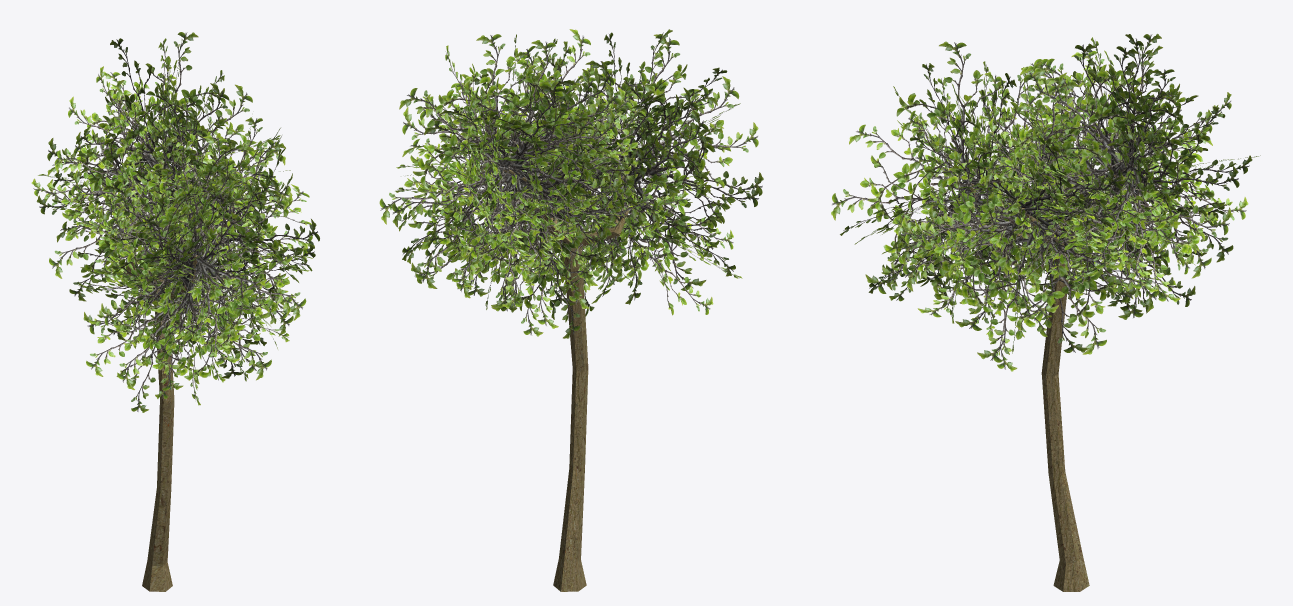
File: Tree2.fbx
3 renders of one model, left to right at view 1: azimuth 30°, elevation 25°; view 2: azimuth 150°, elevation 25°; view 3: azimuth 270°, elevation 25°, orthographic. The views are drawn at different scales.
Visible parts, largest first — view 1: Tree2, Tree2|Tree branchvebg-preview|Dupli|196, Tree2|Tree branchvebg-preview|Dupli|161, Tree2|Tree branchvebg-preview|Dupli|144, Tree2|Tree branchvebg-preview|Dupli|197, Tree2|Tree branchvebg-preview|Dupli|198, Tree2|Tree branchvebg-preview|Dupli|149, Tree2|Tree branchvebg-preview|Dupli|142, Tree2|Tree branchvebg-preview|Dupli|153, Tree2|Tree branchvebg-preview|Dupli|199, Tree2|Tree branchvebg-preview|Dupli|20, Tree2|Tree branchvebg-preview|Dupli|156 (+63 smaller); view 2: Tree2, Tree2|Tree branchvebg-preview|Dupli|124, Tree2|Tree branchvebg-preview|Dupli|55, Tree2|Tree branchvebg-preview|Dupli|46, Tree2|Tree branchvebg-preview|Dupli|63, Tree2|Tree branchvebg-preview|Dupli|132, Tree2|Tree branchvebg-preview|Dupli|136, Tree2|Tree branchvebg-preview|Dupli|171, Tree2|Tree branchvebg-preview|Dupli|52, Tree2|Tree branchvebg-preview|Dupli|71, Tree2|Tree branchvebg-preview|Dupli|156, Tree2|Tree branchvebg-preview|Dupli|139 (+63 smaller); view 3: Tree2, Tree2|Tree branchvebg-preview|Dupli|158, Tree2|Tree branchvebg-preview|Dupli|15, Tree2|Tree branchvebg-preview|Dupli|7, Tree2|Tree branchvebg-preview|Dupli|19, Tree2|Tree branchvebg-preview|Dupli|35, Tree2|Tree branchvebg-preview|Dupli|84, Tree2|Tree branchvebg-preview|Dupli|173, Tree2|Tree branchvebg-preview|Dupli|193, Tree2|Tree branchvebg-preview|Dupli|, Tree2|Tree branchvebg-preview|Dupli|18, Tree2|Tree branchvebg-preview|Dupli|36 (+52 smaller).
Part boxes in pixels (x1=…): Tree2: x1=125, y1=162, x2=235, y2=591; Tree2|Tree branchvebg-preview|Dupli|196: x1=196, y1=256, x2=306, y2=337; Tree2|Tree branchvebg-preview|Dupli|161: x1=195, y1=182, x2=285, y2=268; Tree2|Tree branchvebg-preview|Dupli|144: x1=174, y1=254, x2=270, y2=364; Tree2|Tree branchvebg-preview|Dupli|197: x1=100, y1=237, x2=196, y2=341; Tree2|Tree branchvebg-preview|Dupli|198: x1=113, y1=282, x2=198, y2=390; Tree2|Tree branchvebg-preview|Dupli|149: x1=86, y1=292, x2=184, y2=376; Tree2|Tree branchvebg-preview|Dupli|142: x1=141, y1=282, x2=230, y2=390; Tree2|Tree branchvebg-preview|Dupli|153: x1=178, y1=292, x2=271, y2=384; Tree2|Tree branchvebg-preview|Dupli|199: x1=111, y1=186, x2=203, y2=263; Tree2|Tree branchvebg-preview|Dupli|20: x1=148, y1=137, x2=245, y2=219; Tree2|Tree branchvebg-preview|Dupli|156: x1=106, y1=200, x2=189, y2=288; Tree2: x1=499, y1=166, x2=629, y2=591; Tree2|Tree branchvebg-preview|Dupli|124: x1=508, y1=114, x2=621, y2=228; Tree2|Tree branchvebg-preview|Dupli|55: x1=399, y1=81, x2=501, y2=185; Tree2|Tree branchvebg-preview|Dupli|46: x1=548, y1=165, x2=660, y2=277; Tree2|Tree branchvebg-preview|Dupli|63: x1=474, y1=40, x2=580, y2=172; Tree2|Tree branchvebg-preview|Dupli|132: x1=435, y1=34, x2=536, y2=165; Tree2|Tree branchvebg-preview|Dupli|136: x1=502, y1=81, x2=617, y2=182; Tree2|Tree branchvebg-preview|Dupli|171: x1=627, y1=179, x2=721, y2=290; Tree2|Tree branchvebg-preview|Dupli|52: x1=504, y1=74, x2=621, y2=169; Tree2|Tree branchvebg-preview|Dupli|71: x1=513, y1=208, x2=593, y2=338; Tree2|Tree branchvebg-preview|Dupli|156: x1=623, y1=101, x2=709, y2=188; Tree2|Tree branchvebg-preview|Dupli|139: x1=631, y1=124, x2=763, y2=223; Tree2: x1=970, y1=169, x2=1129, y2=591; Tree2|Tree branchvebg-preview|Dupli|158: x1=896, y1=41, x2=1006, y2=181; Tree2|Tree branchvebg-preview|Dupli|15: x1=953, y1=229, x2=1047, y2=362; Tree2|Tree branchvebg-preview|Dupli|7: x1=1007, y1=232, x2=1117, y2=354; Tree2|Tree branchvebg-preview|Dupli|19: x1=1039, y1=229, x2=1159, y2=325; Tree2|Tree branchvebg-preview|Dupli|35: x1=901, y1=162, x2=1042, y2=277; Tree2|Tree branchvebg-preview|Dupli|84: x1=1029, y1=58, x2=1130, y2=169; Tree2|Tree branchvebg-preview|Dupli|173: x1=849, y1=115, x2=977, y2=210; Tree2|Tree branchvebg-preview|Dupli|193: x1=831, y1=155, x2=968, y2=264; Tree2|Tree branchvebg-preview|Dupli|: x1=1010, y1=77, x2=1107, y2=207; Tree2|Tree branchvebg-preview|Dupli|18: x1=925, y1=165, x2=1044, y2=271; Tree2|Tree branchvebg-preview|Dupli|36: x1=933, y1=212, x2=1030, y2=330.
Size of the model in its own units: 450 by 765 by 554.
Materials: 2 (2 with a texture image).
